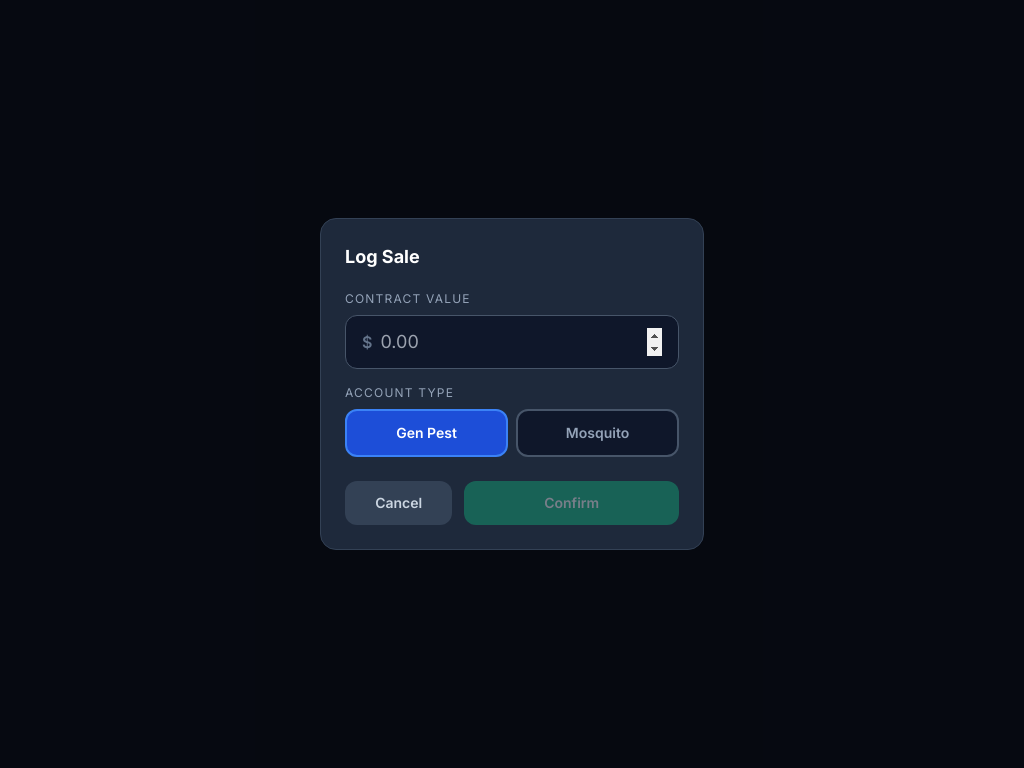
Test: Confirm button is enabled after entering a positive value
This screenshot has width=1024, height=768.
Type "299" into the number field with placeholder "0.00" at (521, 342), box [380, 328, 662, 356]
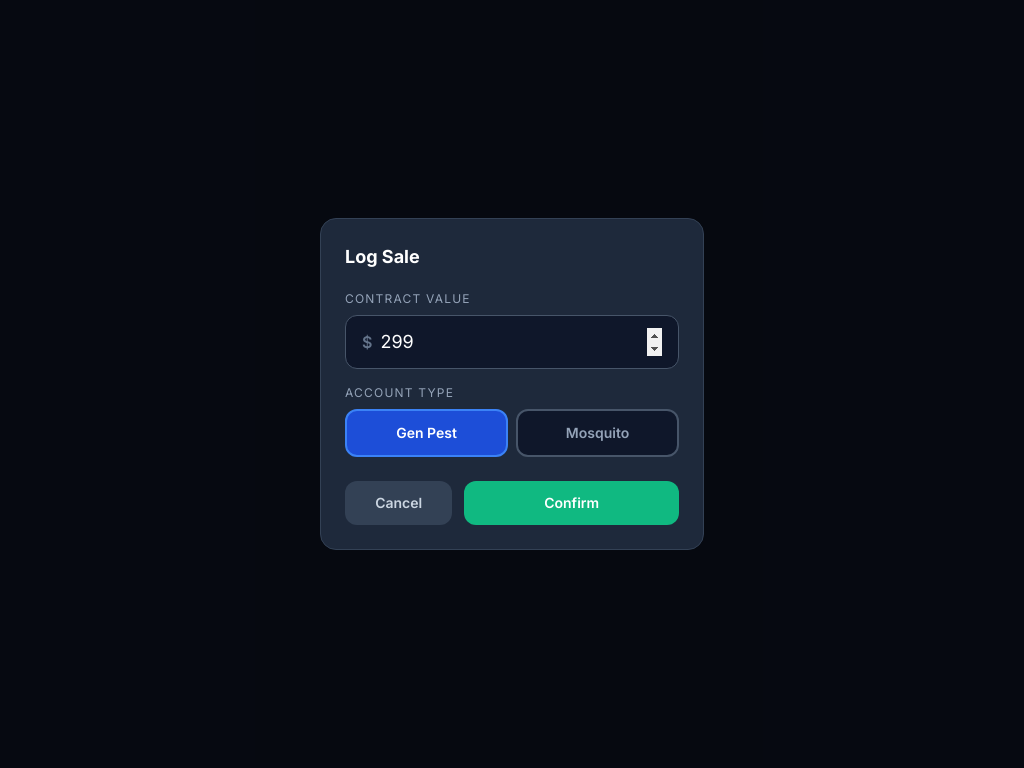
Check: the button "Confirm" is enabled, box [464, 481, 679, 525]
